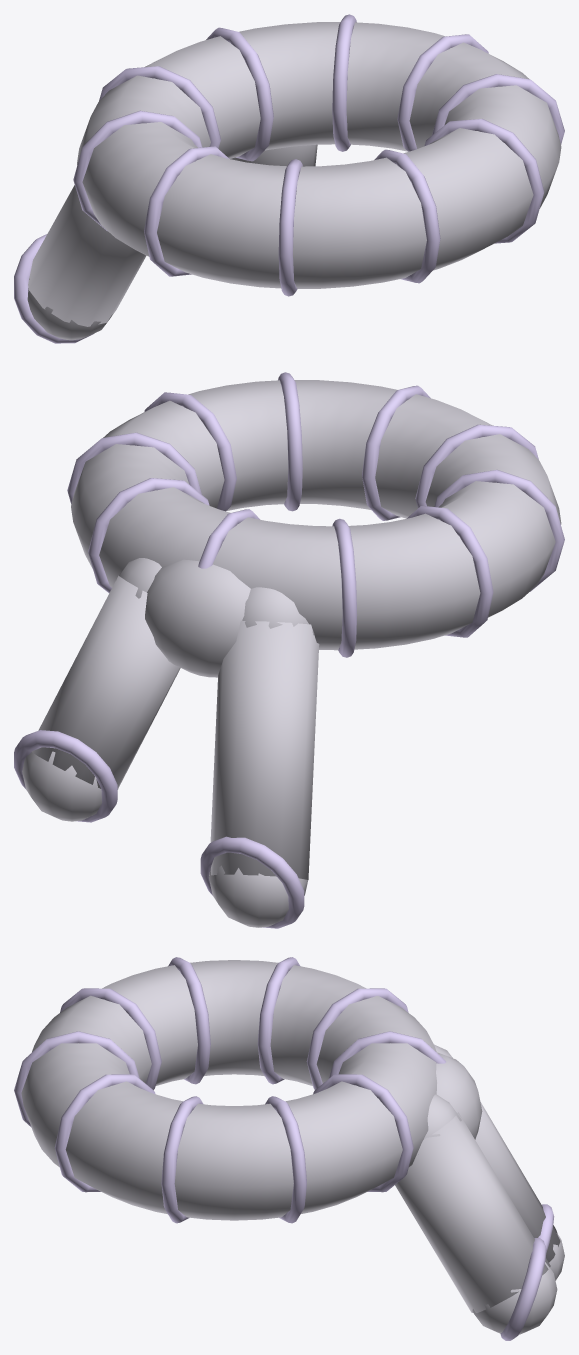
The model's file is spider_silk_scarf.glb.
3 views of the same model, one above another, from view 1: azimuth 30°, elevation 25°; view 2: azimuth 150°, elevation 25°; view 3: azimuth 270°, elevation 25° (orthographic). The views are drawn at different scales.
Visible parts, largest first — view 1: Body; view 2: Body; view 3: Body.
Part boxes in pixels (box(x1,y1,x2,y2)): Body: box(14, 14, 564, 343); Body: box(14, 372, 564, 928); Body: box(14, 957, 564, 1340).
Bounding box in the file's own units: 0.4 × 0.3003 × 0.4777.
